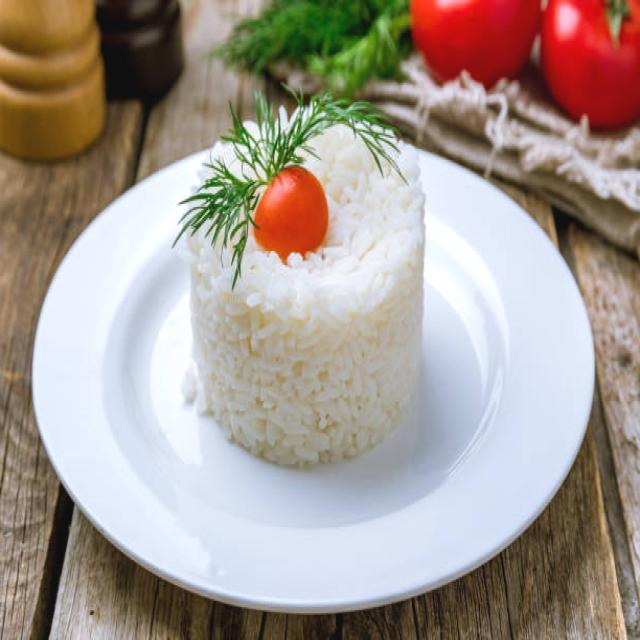Rice: (181, 102, 426, 472)
